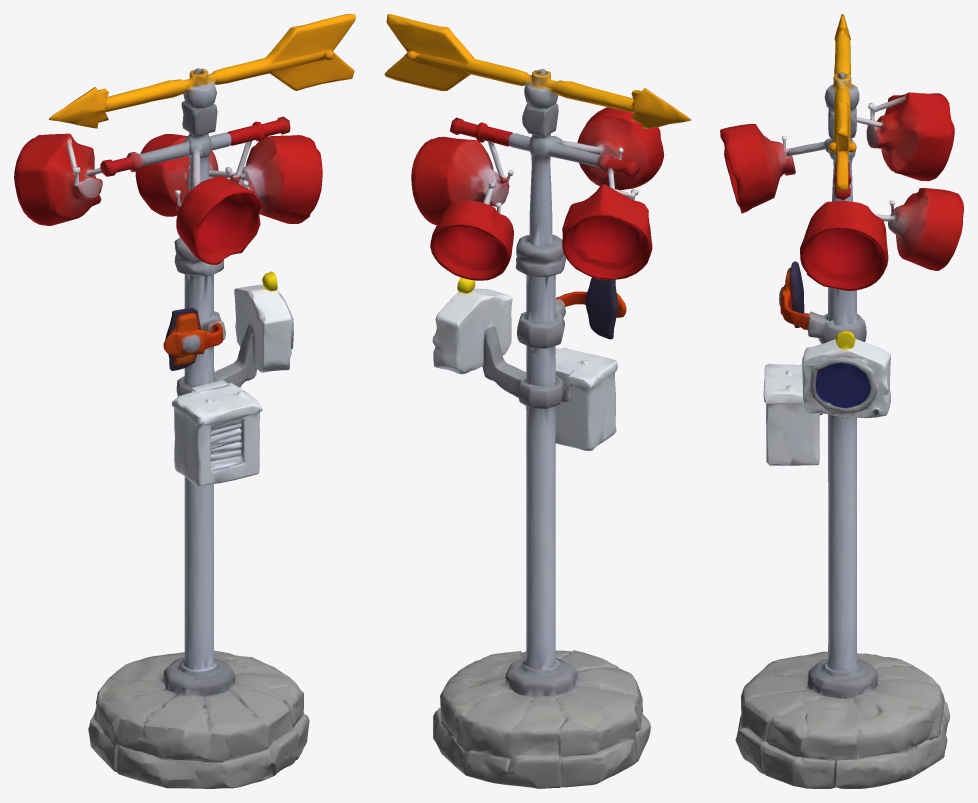
Rendered from weather_mast.glb.
The picture shows the model from 3 angles, left to right: view 1: azimuth 30°, elevation 25°; view 2: azimuth 150°, elevation 25°; view 3: azimuth 270°, elevation 25°; orthographic projection.
Parts seen in each view (by area): view 1: tripo_node_133f81e2-0e15-41f9-9109-cbd3fd9efc71; view 2: tripo_node_133f81e2-0e15-41f9-9109-cbd3fd9efc71; view 3: tripo_node_133f81e2-0e15-41f9-9109-cbd3fd9efc71.
Part boxes in pixels (x1=…): tripo_node_133f81e2-0e15-41f9-9109-cbd3fd9efc71: x1=14, y1=14, x2=355, y2=788; tripo_node_133f81e2-0e15-41f9-9109-cbd3fd9efc71: x1=384, y1=14, x2=691, y2=788; tripo_node_133f81e2-0e15-41f9-9109-cbd3fd9efc71: x1=720, y1=14, x2=963, y2=788.
Bounding box in the file's own units: 0.4593 × 1 × 0.3189.
Materials: 1 (1 with a texture image).
